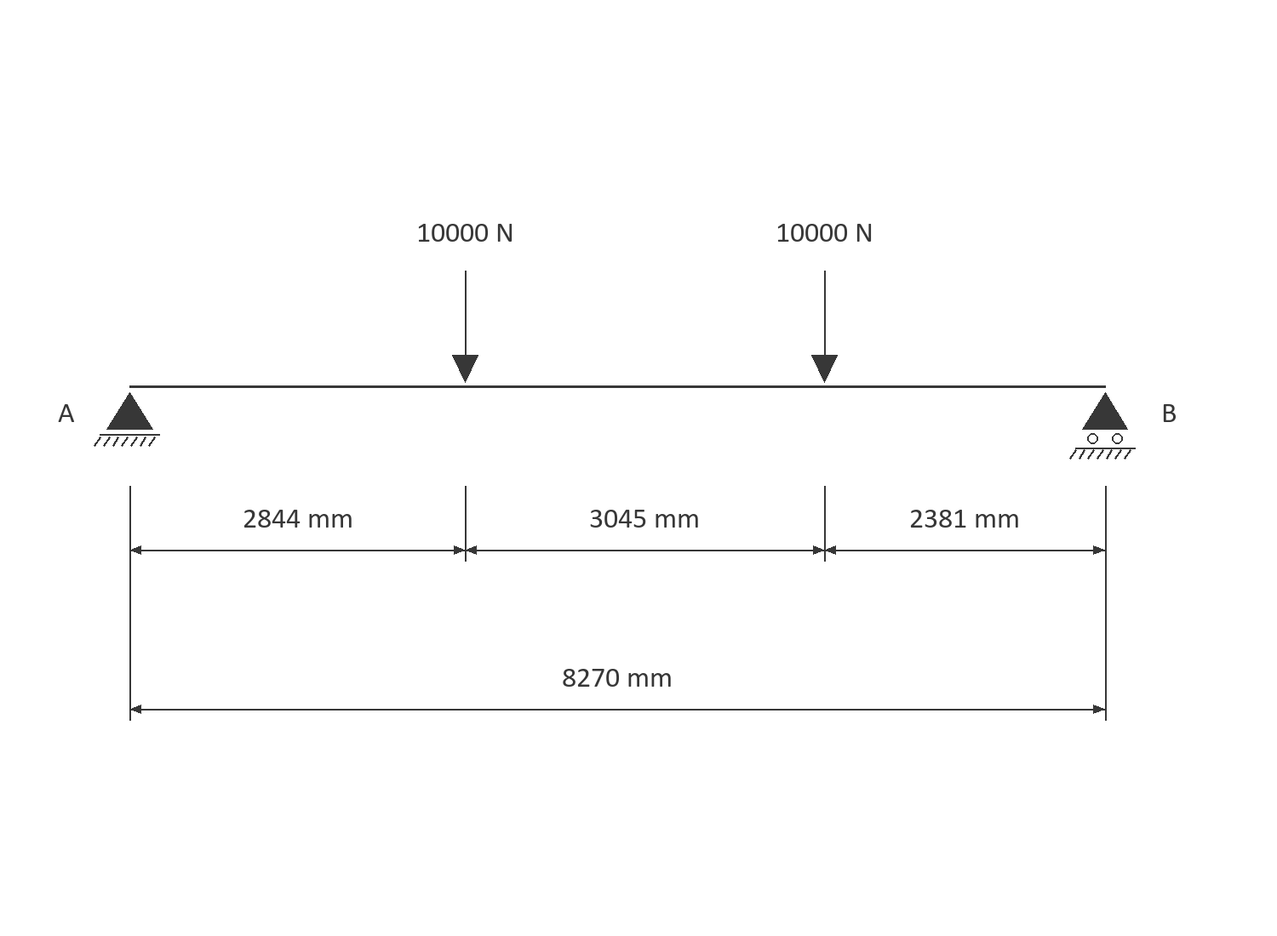pin_support: (94, 392, 160, 447)
point_load: (811, 271, 838, 383), (452, 271, 478, 383)
roller_support: (1069, 392, 1136, 459)
